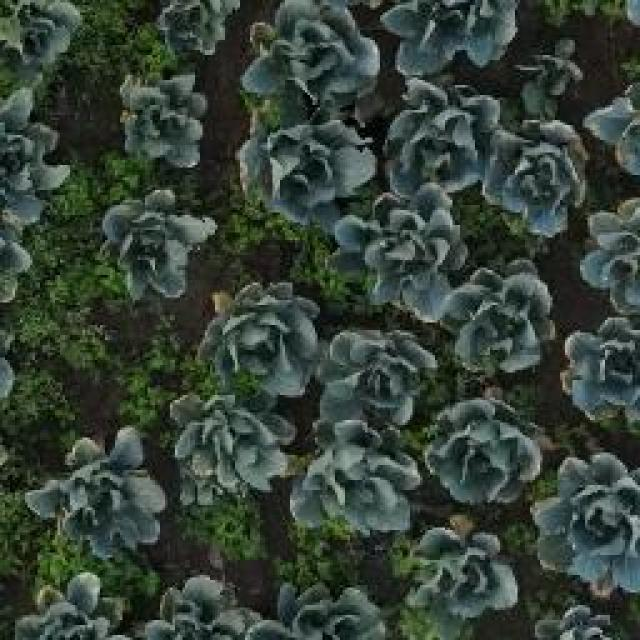cabbage: (241, 86, 381, 223), (29, 425, 172, 557), (333, 182, 470, 316), (532, 452, 640, 600), (240, 0, 381, 111), (378, 71, 499, 199), (166, 389, 294, 507), (199, 277, 324, 397), (94, 186, 220, 303), (438, 256, 560, 376), (421, 390, 544, 505), (480, 120, 592, 242), (397, 514, 519, 620), (113, 66, 210, 175), (377, 0, 515, 75), (7, 562, 135, 640), (309, 429, 412, 523), (560, 310, 640, 430), (132, 569, 260, 640), (333, 327, 429, 413), (266, 576, 392, 640), (0, 0, 86, 71), (151, 0, 241, 63)
